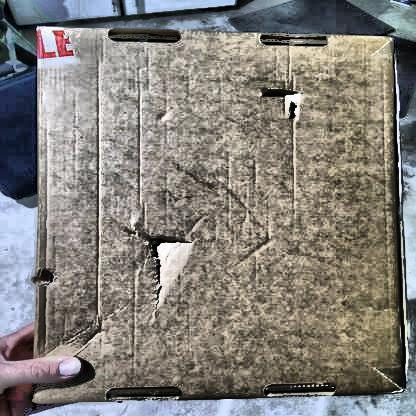defect parcel: (111, 207, 241, 326), (220, 71, 338, 148), (11, 239, 77, 315)
